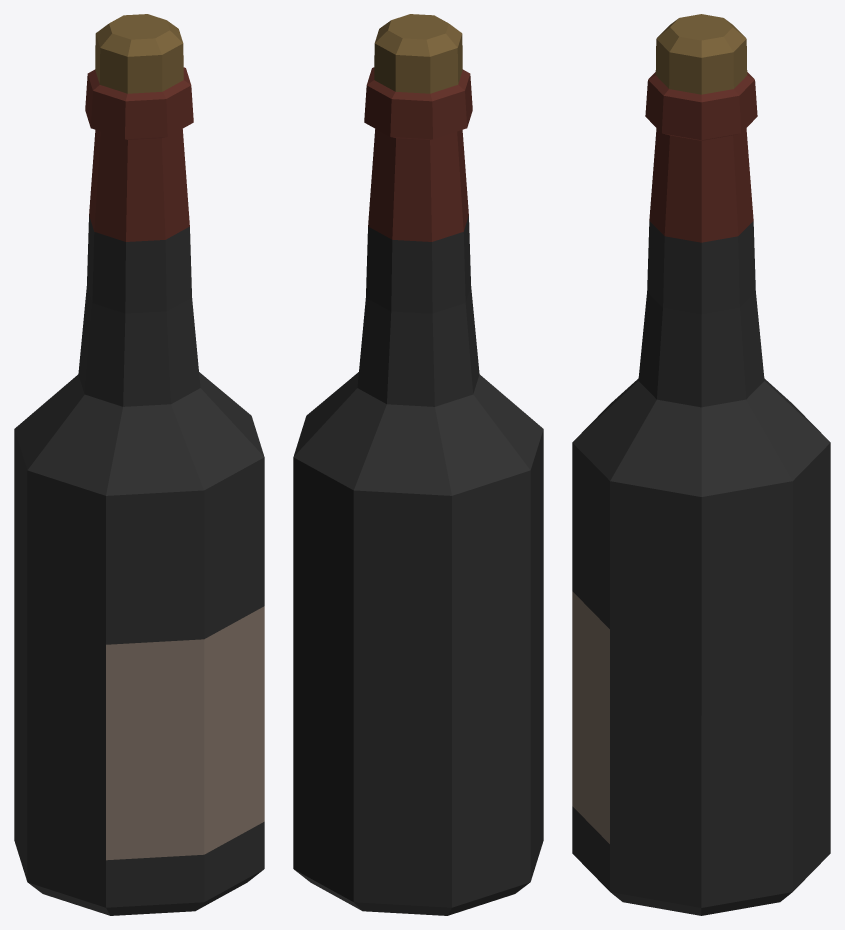
Rendered from bottle_b.glb.
The picture shows the model from 3 angles, left to right: view 1: azimuth 30°, elevation 25°; view 2: azimuth 150°, elevation 25°; view 3: azimuth 270°, elevation 25°; orthographic projection.
Parts seen in each view (by area): view 1: Bottle2; view 2: Bottle2; view 3: Bottle2.
Boxes of the visible parts, bbox=[...] form: Bottle2: bbox=[14, 14, 264, 915]; Bottle2: bbox=[293, 14, 543, 915]; Bottle2: bbox=[572, 14, 830, 915].
Size of the model in its own units: 0.4516 by 1.62 by 0.4516.
